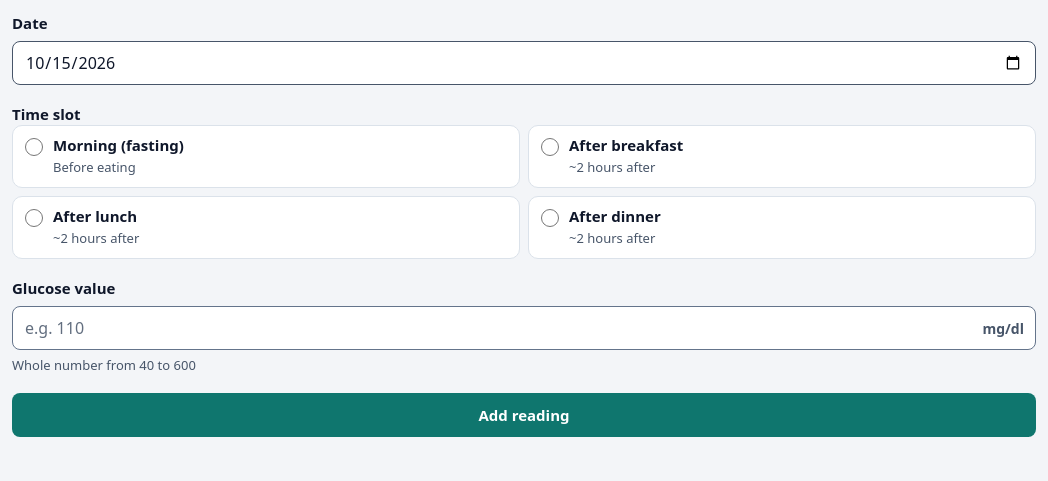
Test: ReadingForm › rejects 39 as out of range
The image size is (1048, 481).
Click the radio button labelled "After lunch ~2 hours after".
click(34, 218)  # box [25, 209, 43, 227]
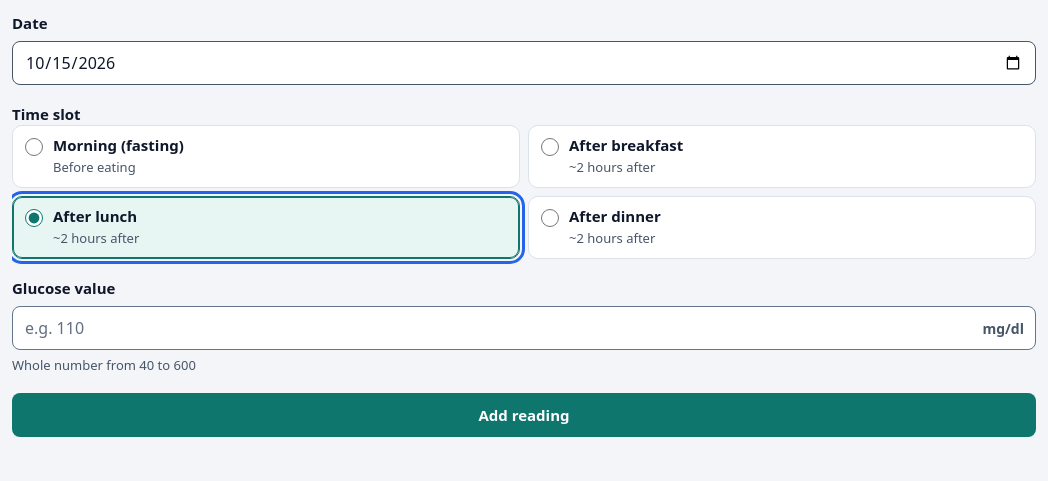
Type "39" into the number field labelled "Glucose value".
click(524, 328); type("39")  # box [12, 306, 1036, 350]
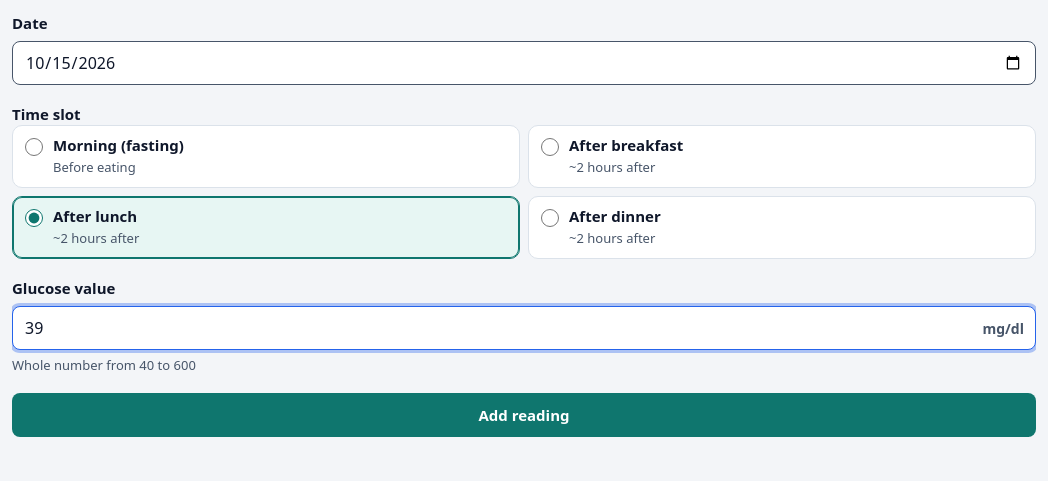
Click the button "Add reading".
click(524, 415)  # box [12, 393, 1036, 437]
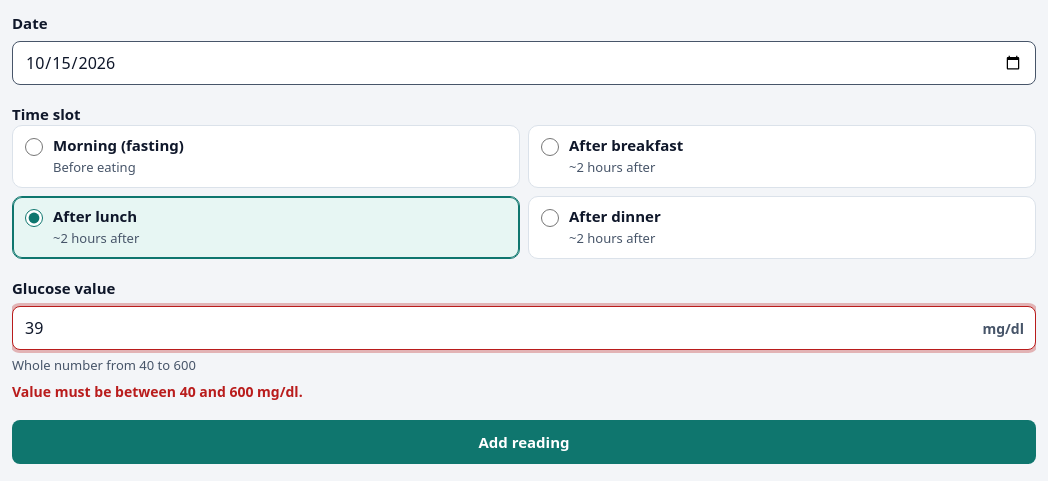
Result: the text "Value must be between 40 and 600 mg/dl." is shown at [12, 382, 303, 401]
